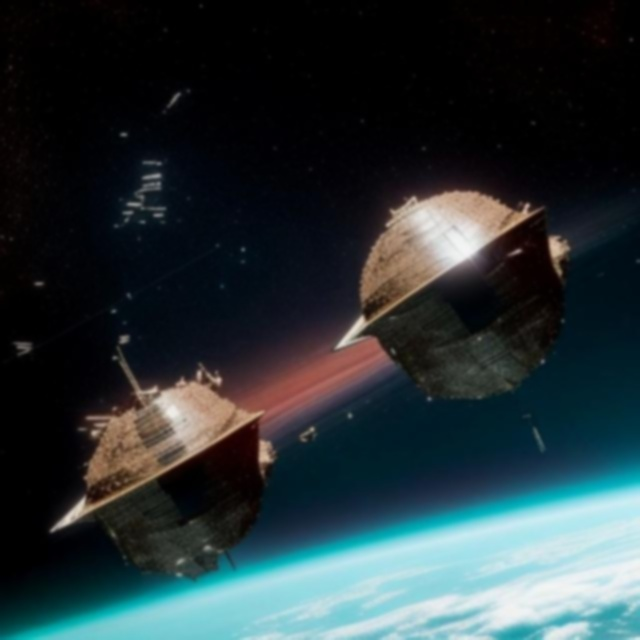large_debris: (324, 171, 583, 436), (39, 347, 285, 587), (94, 76, 193, 247), (0, 259, 64, 381), (98, 268, 152, 349), (220, 229, 260, 267), (287, 420, 332, 452)
